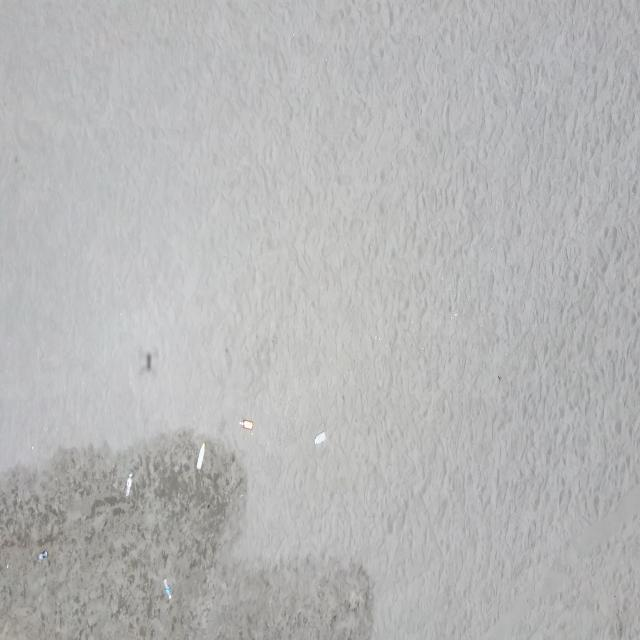Garbage: (163, 577, 172, 599), (196, 443, 203, 468), (124, 472, 131, 496), (240, 419, 252, 430), (37, 548, 47, 560), (315, 431, 323, 444), (5, 564, 8, 567)
